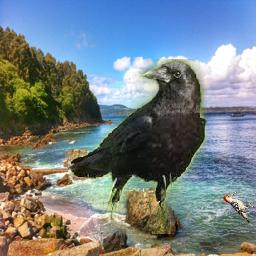Crow: (69, 60, 208, 235)
Woodpecker: (222, 191, 254, 223)
